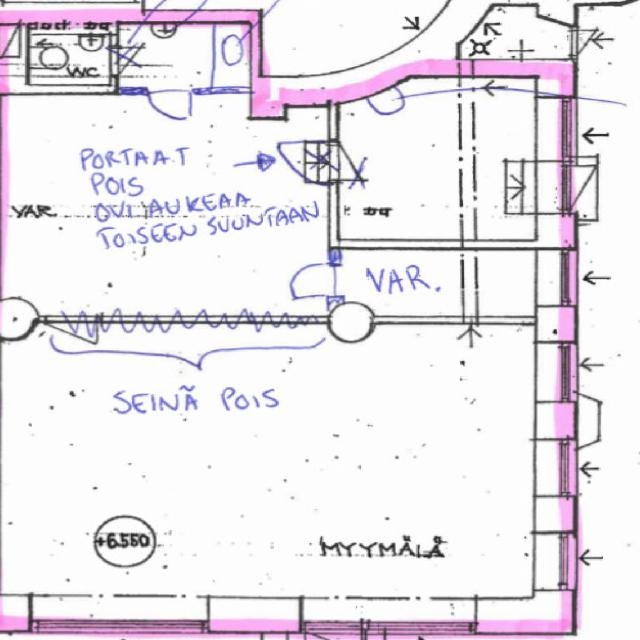door: (535, 164, 628, 208), (285, 143, 337, 180), (147, 87, 191, 130), (292, 263, 337, 294)
